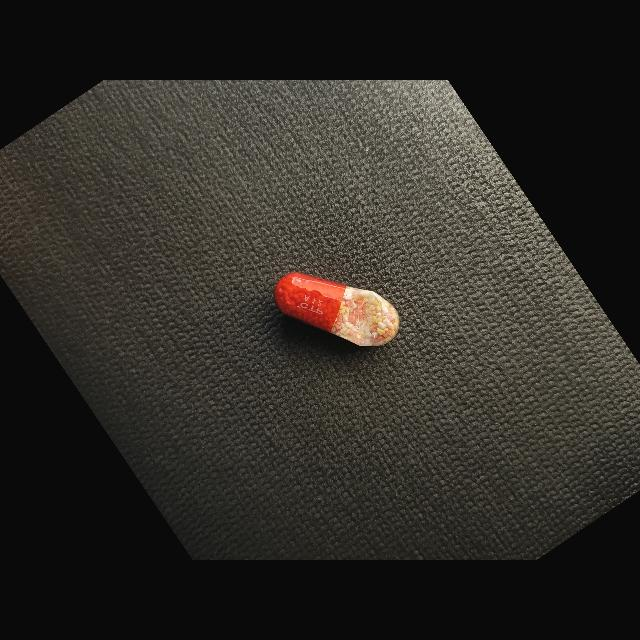Defective Capsule: (275, 273, 399, 346)
